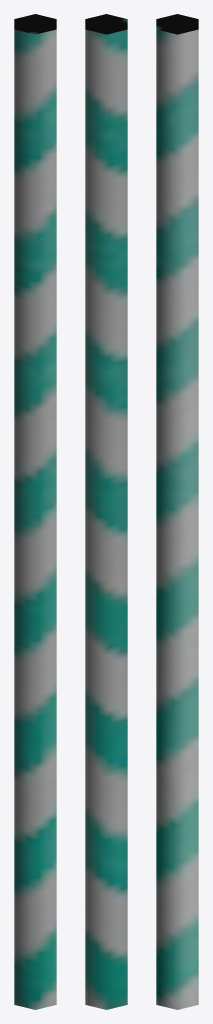
File: StrawV2.fbx
3 renders of one model, left to right at view 1: azimuth 30°, elevation 25°; view 2: azimuth 150°, elevation 25°; view 3: azimuth 330°, elevation 25°, orthographic.
Visible parts, largest first — view 1: DrinkingStrawV1; view 2: DrinkingStrawV1; view 3: DrinkingStrawV1.
Boxes of the visible parts, <box> form: DrinkingStrawV1: <box>14,14,56,1009</box>; DrinkingStrawV1: <box>85,14,127,1009</box>; DrinkingStrawV1: <box>156,14,198,1009</box>.
Size of the model in its own units: 0.0109 by 0.2392 by 0.00941.
